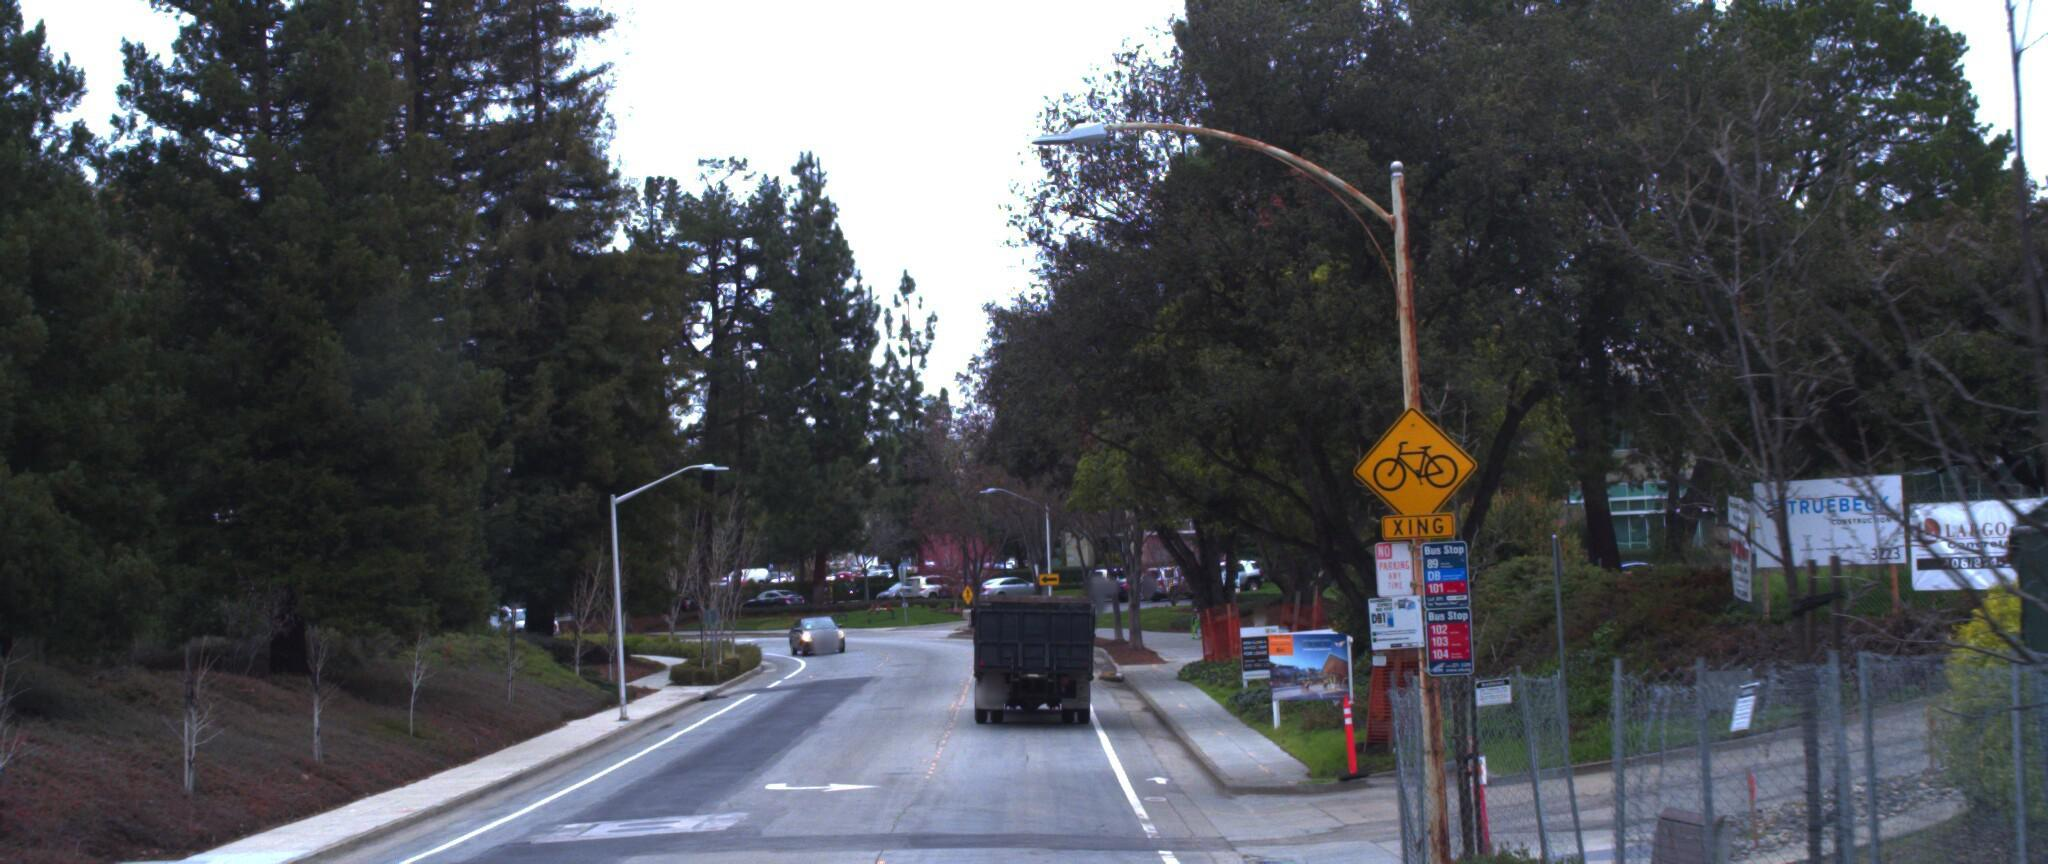truck: (957, 555, 1102, 728)
